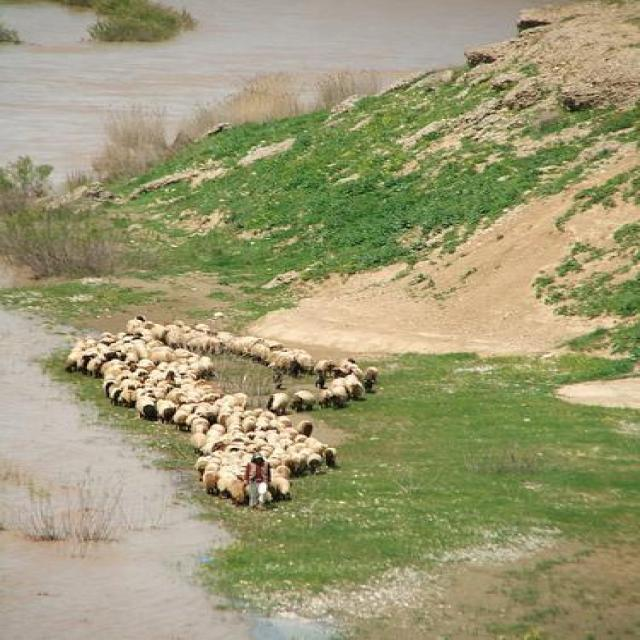Sheep: (58, 310, 381, 507)
